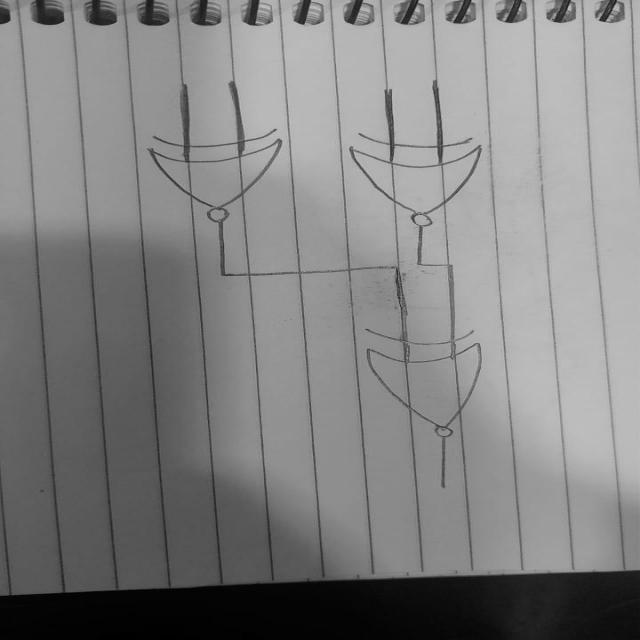XNOR: (344, 315, 536, 446), (340, 122, 515, 240), (134, 128, 304, 224)
